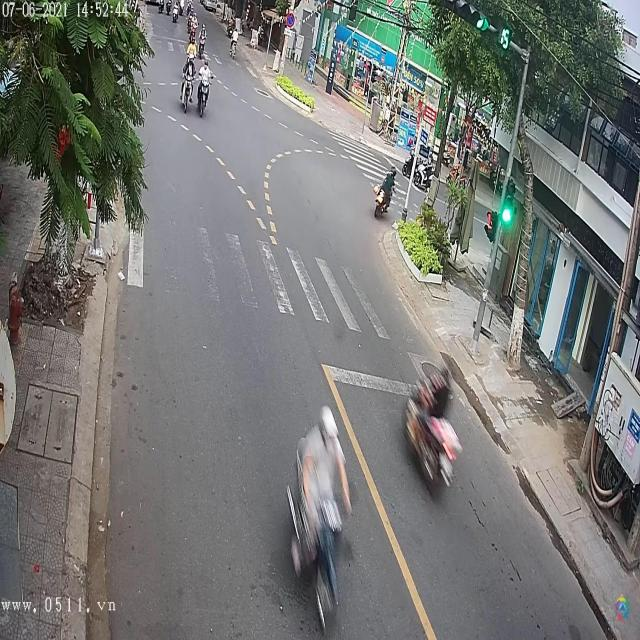motorcycle: (374, 172, 392, 217), (180, 69, 195, 114), (194, 80, 212, 116), (198, 31, 206, 57)
